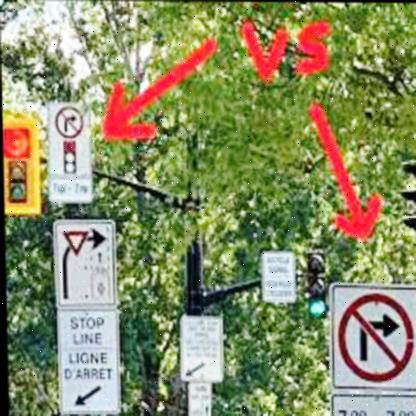No right turn: (330, 288, 414, 390), (57, 104, 86, 138)
